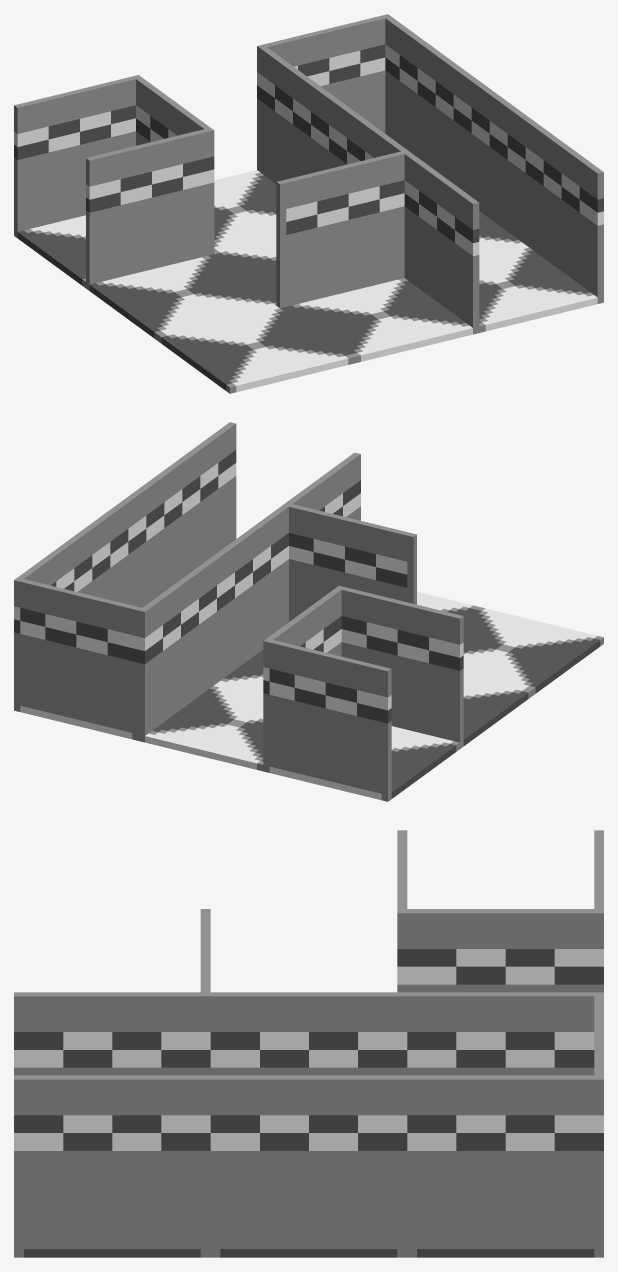
Rendered from level_maze-12.obj.
The picture shows the model from 3 angles, top to bottom: view 1: azimuth 30°, elevation 25°; view 2: azimuth 150°, elevation 25°; view 3: azimuth 270°, elevation 25°; orthographic projection. The views are drawn at different scales.
Parts seen in each view (by area): view 1: level_maze-12; view 2: level_maze-12; view 3: level_maze-12.
Boxes of the visible parts, bbox=[...] form: level_maze-12: bbox=[14, 14, 603, 393]; level_maze-12: bbox=[14, 422, 603, 801]; level_maze-12: bbox=[14, 830, 603, 1257].
Size of the model in its own units: 60 by 20 by 60.
Materials: 1 (1 with a texture image).
